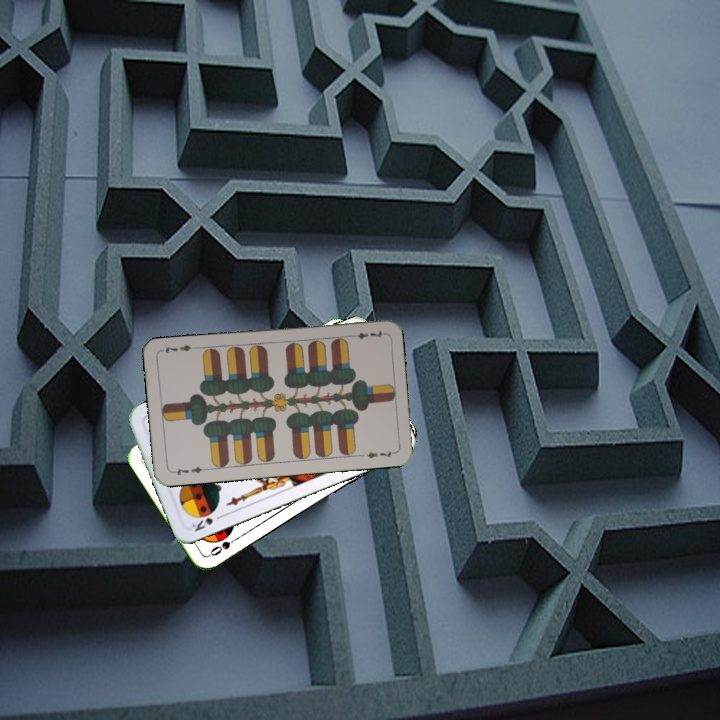E7: (168, 462, 209, 478), (345, 326, 386, 341)
SK: (188, 511, 226, 534)
SO: (205, 533, 242, 559)
